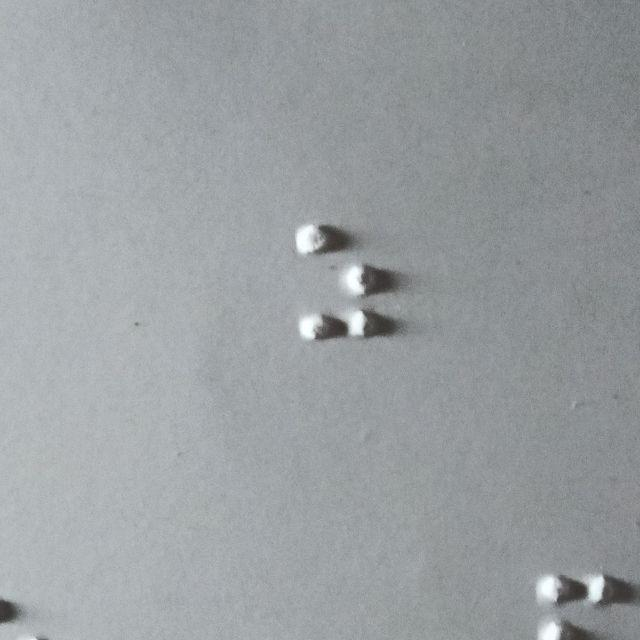z: (294, 223, 386, 343)
